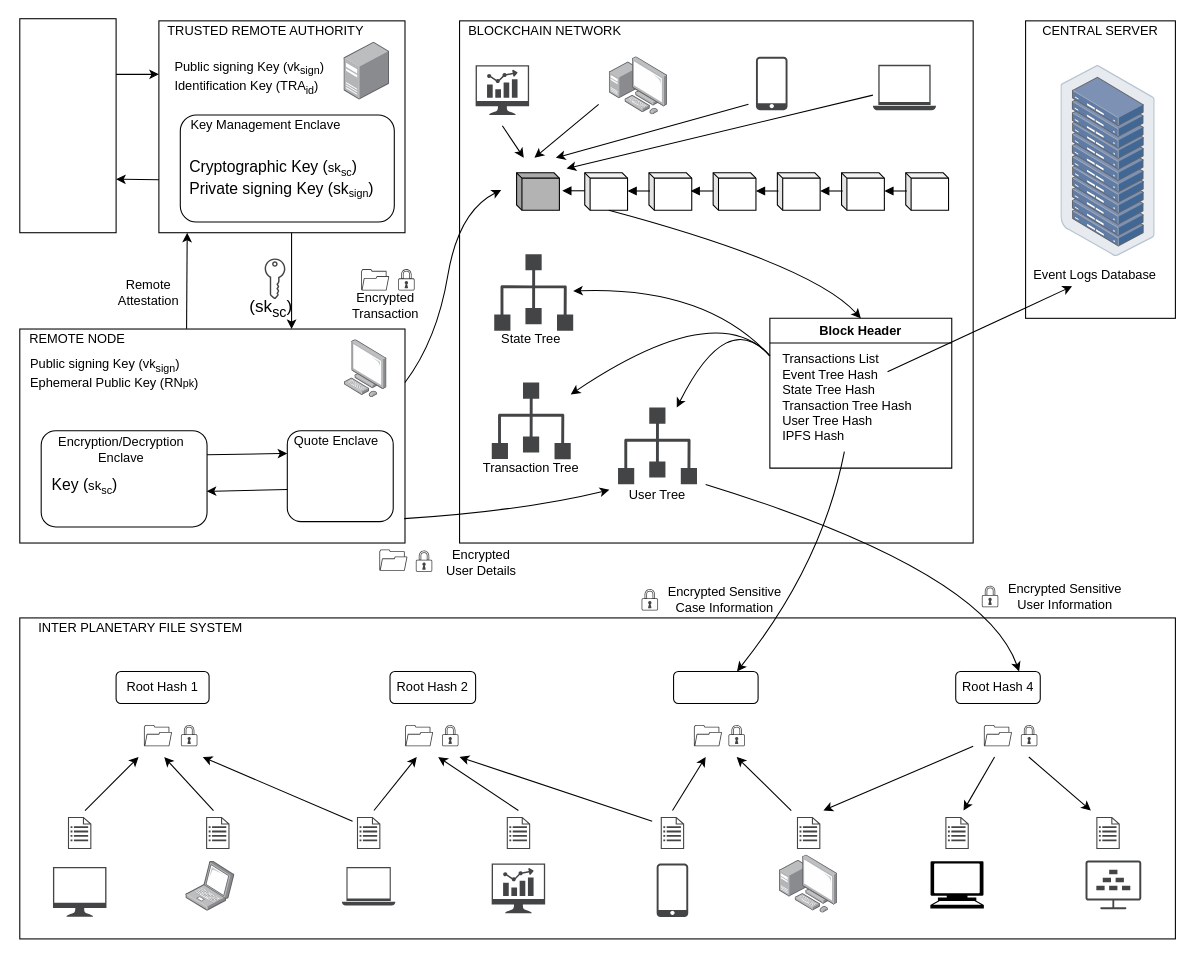
Image size: 1194x958. Some labels were removed from this diagram. Here are the shapes that lost their labels. From the top down, the box of each, then its label:
(19, 18, 116, 233): Intel Attestation Service
(672, 670, 758, 704): Root Hash 3
